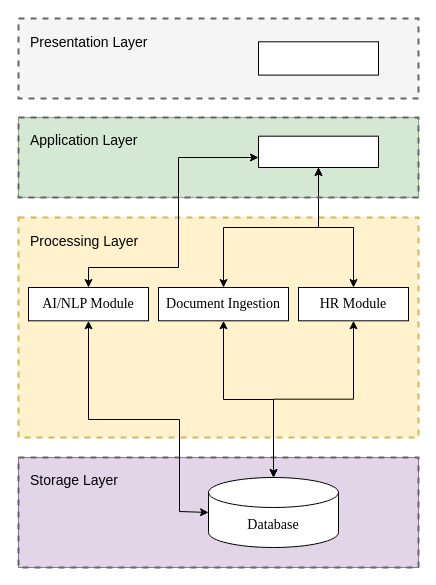
Some shapes in this 436 by 585 pixel diagram are drawn without their labels. The box of each missing label's shape, as (x1, y1, x2, y2) in pixels:
Backend API: (258, 135, 378, 168)
Frontend Interface: (258, 41, 378, 75)
